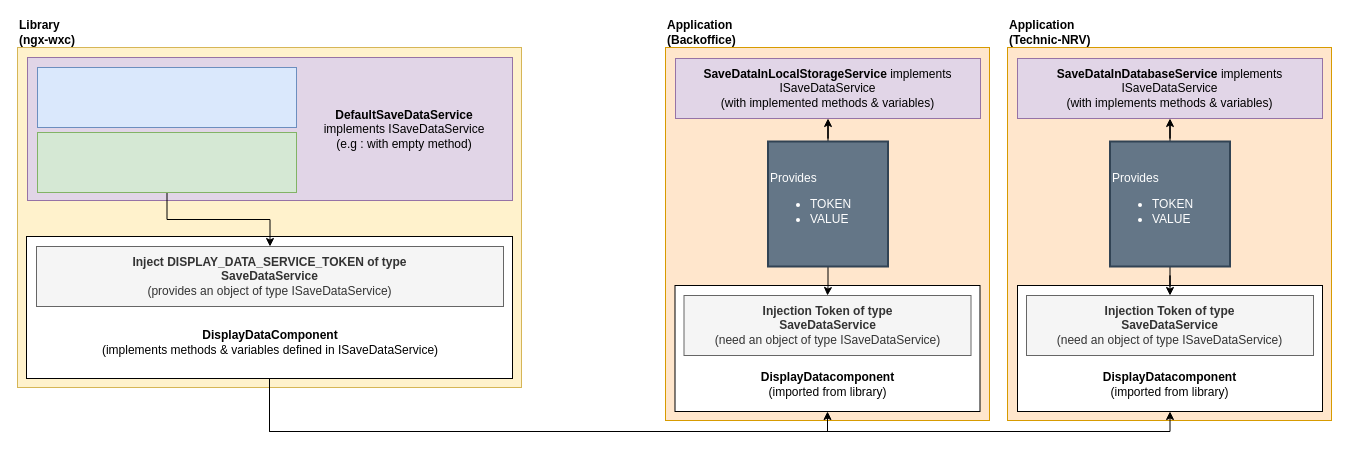
Some shapes in this 1349 by 457 pixel diagram are drawn without their labels. The shapes that lost their labels are listed below. From the top down, each one's centre as x and y in pixels, then its label:
point (166, 97): ISaveDataService (defines methods & variable to implements)
point (166, 162): SaveDataService = ISaveDataService (defines an object of type ISaveDataService)
